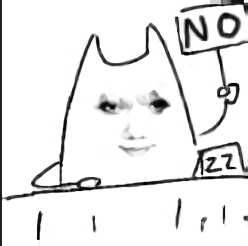dragon: (98, 91, 172, 157)
